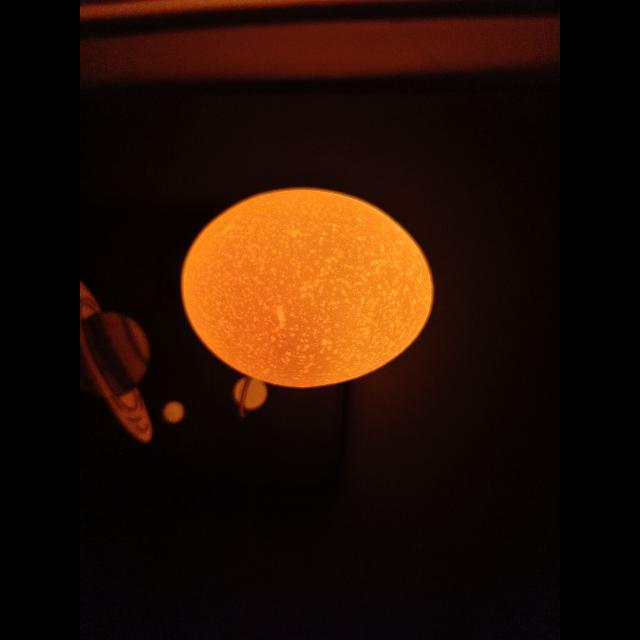AA - Premium: (181, 189, 433, 388)
